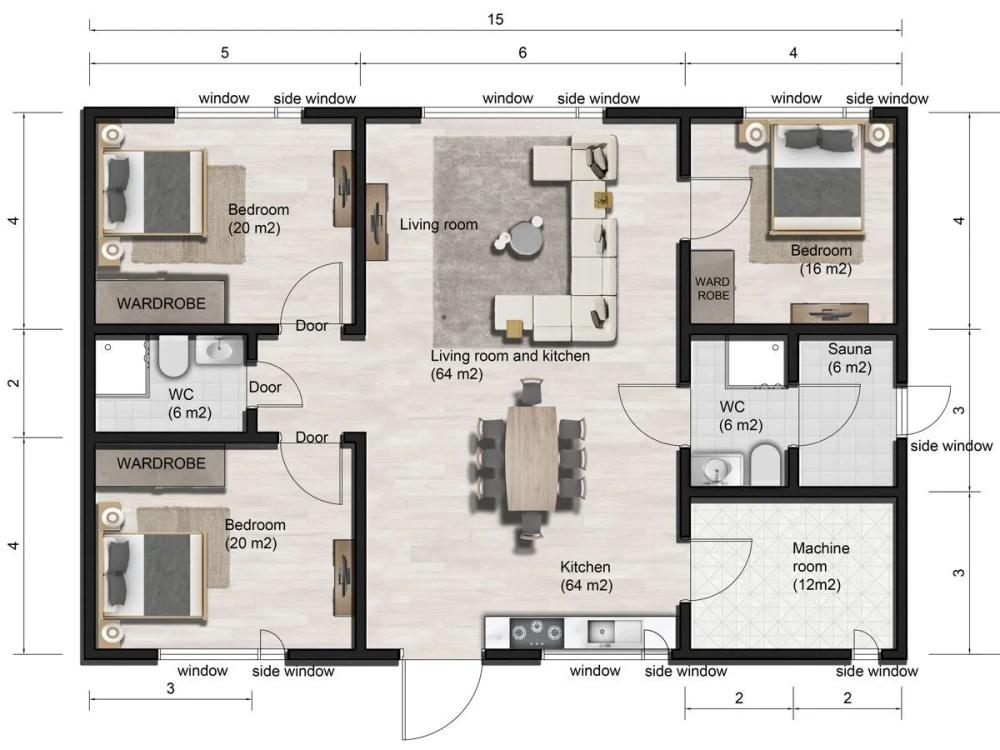room: (363, 113, 684, 652), (90, 435, 360, 653), (90, 111, 358, 328), (685, 110, 901, 326), (687, 492, 900, 653), (687, 330, 897, 490), (90, 329, 251, 435)
